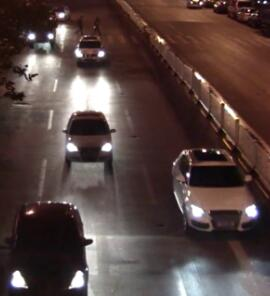car: (169, 144, 264, 239), (4, 200, 93, 291), (61, 108, 117, 172), (22, 6, 59, 49), (72, 31, 107, 67)
